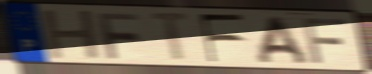A: (255, 14, 312, 66)
F: (197, 13, 247, 65), (95, 11, 144, 61), (300, 17, 350, 66)
H: (40, 8, 105, 61)
T: (147, 10, 195, 64)
